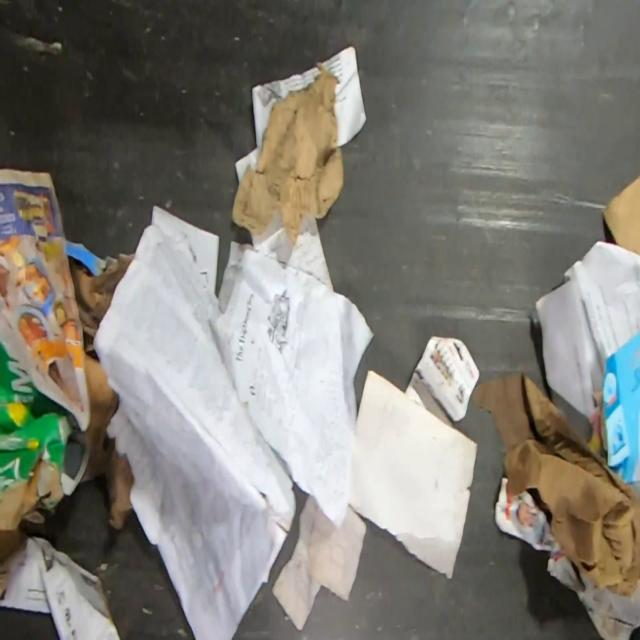cardboard: (469, 372, 640, 598), (231, 62, 344, 247), (64, 239, 135, 530), (0, 338, 76, 600), (603, 175, 640, 256)
